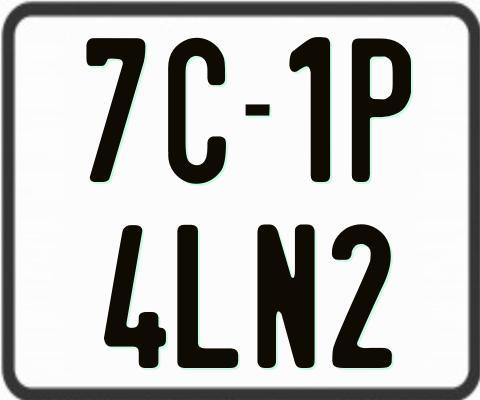1: (286, 37, 333, 184)
2: (330, 221, 391, 368)
4: (103, 223, 170, 372)
7: (83, 37, 143, 184)
C: (166, 36, 227, 188)
L: (177, 222, 241, 365)
N: (257, 223, 316, 373)
P: (350, 37, 410, 185)
